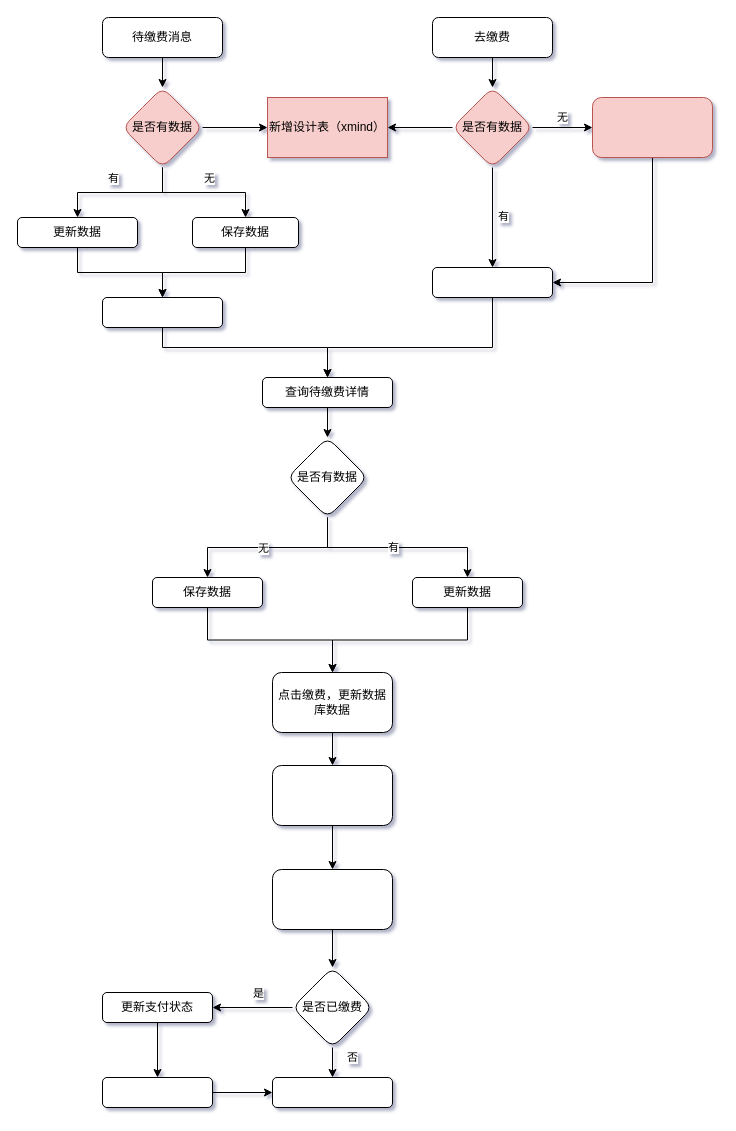
This 736x1131 diagram has some shape labels left out. Here are the shapes that lost their labels. From the top down, the box of each, then its label:
(592, 96, 712, 158): 查询业务系统数据，并保存进数据库
(432, 266, 552, 298): 直接返回数据
(102, 296, 222, 328): 发送待缴费消息
(272, 764, 392, 826): 缴费成功，跳转已缴费列表
(272, 868, 392, 930): 根据处方号查询缴费信息
(102, 1076, 212, 1108): 发送已缴费通知
(272, 1076, 392, 1108): 结束
